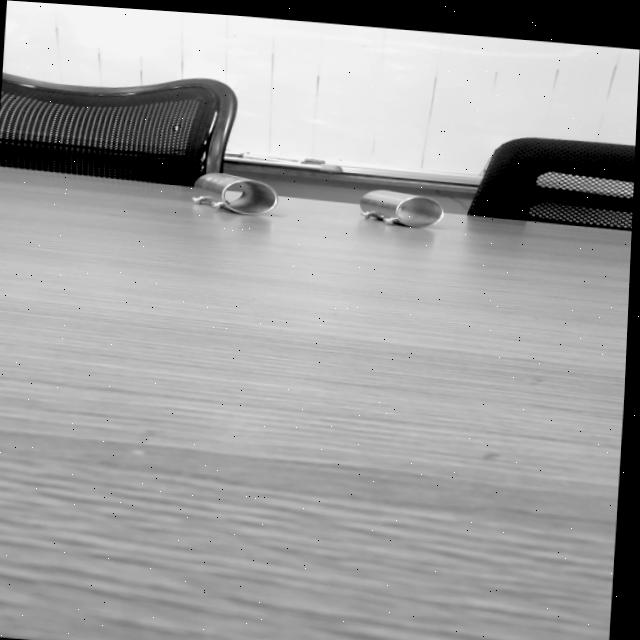Co_Lon: (189, 167, 279, 220)
Co_Nho: (356, 184, 444, 232)
